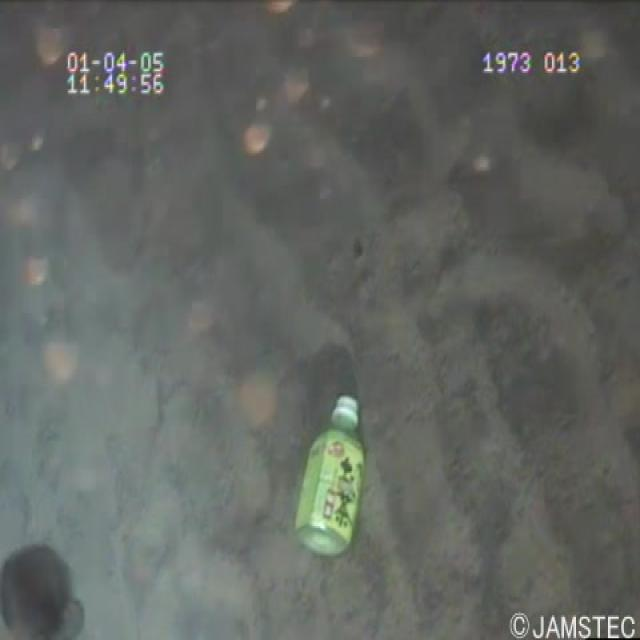plastic: (286, 380, 378, 576)
